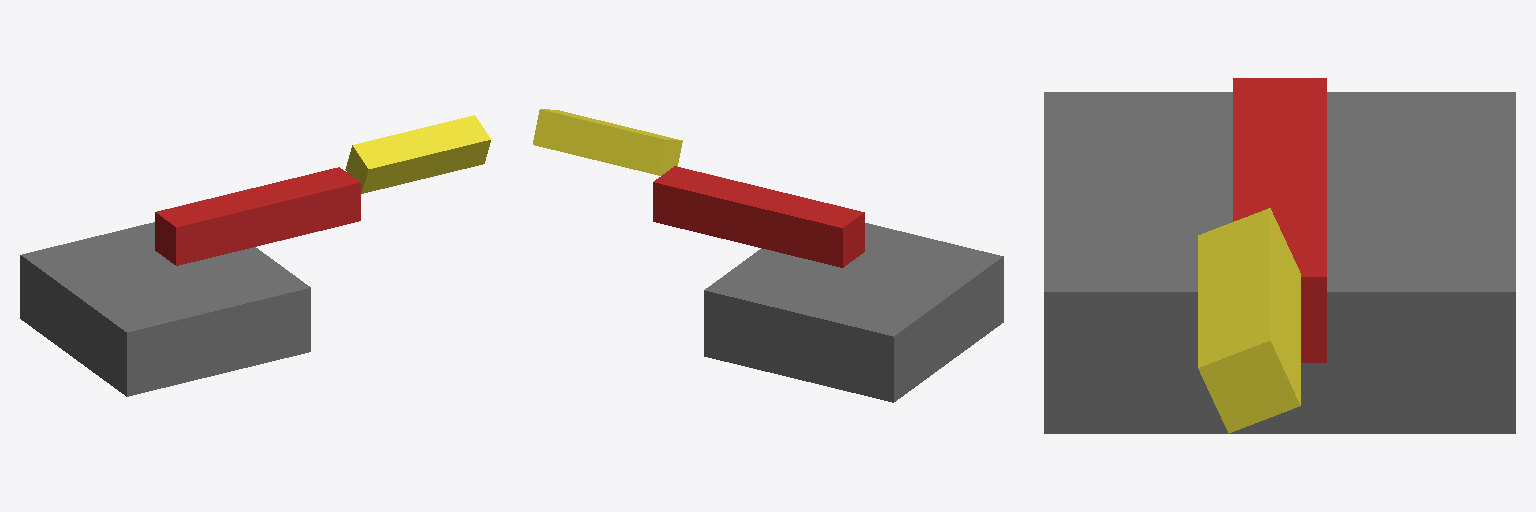
robot.urdf — testRobot:
<?xml version="1.0"?>
<!-- A small robot for the tests of exudyn.robotics.urdfImport (#3285): a base with an STL mesh; link1 with a mass whose
     inertia violates the triangle inequality and an STL mesh scaled; a fixed link flange turned by rpy; link2 with a
     flipped joint (axis 0 -1 0), no mass and a brick of an OBJ file with a texture; a fixed tool link; collision geometries of all kinds. -->
<robot name="testRobot">
  <link name="base_link">
    <visual>
      <origin xyz="0 0 0.05"/>
      <geometry><mesh filename="package://testRobot/meshes/base.stl"/></geometry>
      <material name="grey"><color rgba="0.5 0.5 0.5 1"/></material>
    </visual>
    <collision>
      <origin xyz="0 0 0.05"/>
      <geometry><mesh filename="package://testRobot/meshes/base.stl"/></geometry>
    </collision>
  </link>
  <joint name="joint1" type="revolute">
    <parent link="base_link"/>
    <child link="link1"/>
    <origin xyz="0 0 0.15" rpy="0 0 0"/>
    <axis xyz="0 0 1"/>
    <limit lower="-2" upper="2" effort="50" velocity="2"/>
  </joint>
  <link name="link1">
    <inertial>
      <origin xyz="0.15 0 0"/>
      <mass value="2"/>
      <inertia ixx="0.0066" ixy="0" ixz="0" iyy="0.00125" iyz="0" izz="0.0086"/>
    </inertial>
    <visual>
      <origin xyz="0.15 0 0"/>
      <geometry><mesh filename="package://testRobot/meshes/link1.stl" scale="1 1 1"/></geometry>
      <material name="red"><color rgba="0.8 0.2 0.2 1"/></material>
    </visual>
    <collision>
      <origin xyz="0.15 0 0"/>
      <geometry><box size="0.3 0.05 0.04"/></geometry>
    </collision>
  </link>
  <joint name="flangeJoint" type="fixed">
    <parent link="link1"/>
    <child link="flange"/>
    <origin xyz="0.3 0 0" rpy="0.4 0 0"/>
  </joint>
  <link name="flange">
    <collision>
      <origin xyz="0 0 0.01"/>
      <geometry><cylinder radius="0.03" length="0.02"/></geometry>
    </collision>
  </link>
  <joint name="joint2" type="revolute">
    <parent link="flange"/>
    <child link="link2"/>
    <origin xyz="0 0 0.05" rpy="0 0 0"/>
    <axis xyz="0 -1 0"/>
    <limit lower="-1.5" upper="1.5" effort="20" velocity="2"/>
  </joint>
  <link name="link2">
    <visual>
      <origin xyz="0.1 0 0"/>
      <geometry><mesh filename="package://testRobot/meshes/arm.obj"/></geometry>
    </visual>
    <collision>
      <origin xyz="0.2 0.01 0"/>
      <geometry><sphere radius="0.04"/></geometry>
    </collision>
  </link>
  <joint name="toolJoint" type="fixed">
    <parent link="link2"/>
    <child link="tool0"/>
    <origin xyz="0.2 0 0"/>
  </joint>
  <link name="tool0"/>
</robot>

--- What the picture shows (computed from the rendered views, not written in the file) ---
The picture shows the robot from 3 angles, left to right: view 1: azimuth 30°, elevation 25°; view 2: azimuth 150°, elevation 25°; view 3: azimuth 270°, elevation 25°; orthographic projection.
Robot: testRobot — 5 links, 4 joints (2 revolute, 2 fixed); root link base_link; default pose: all joints at 0.
Visible links, largest first — view 1: base_link, link1, link2; view 2: base_link, link1, link2; view 3: base_link, link2, link1.
Link boxes in pixels (x1,y1,x2,y2): base_link: (20, 222, 310, 396); link1: (155, 167, 360, 265); link2: (345, 115, 490, 193); base_link: (704, 223, 1003, 402); link1: (653, 166, 864, 267); link2: (533, 109, 682, 175); base_link: (1044, 92, 1515, 433); link2: (1198, 208, 1300, 433); link1: (1233, 78, 1326, 362).
Size in the robot's own frame: 0.65 by 0.3 by 0.2288 metres.
Meshes: 3 distinct files referenced, 3 mesh visuals loaded (2 binary STL, 1 OBJ).
